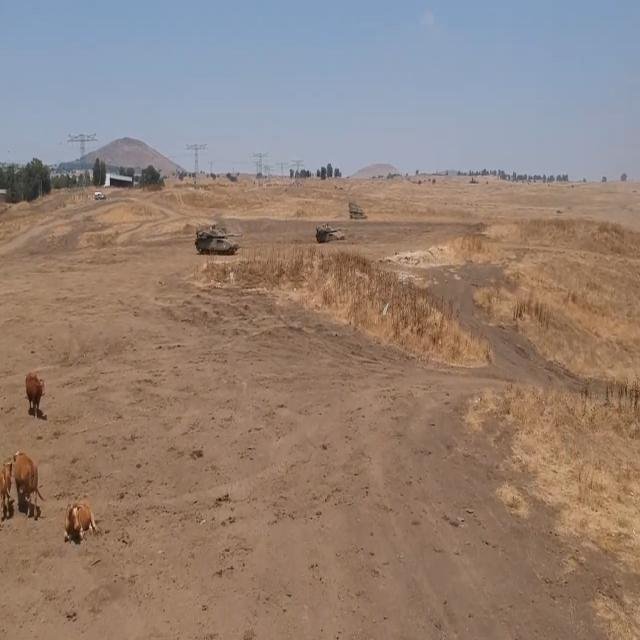tank: (190, 213, 243, 267), (314, 220, 348, 249), (348, 196, 365, 224)
